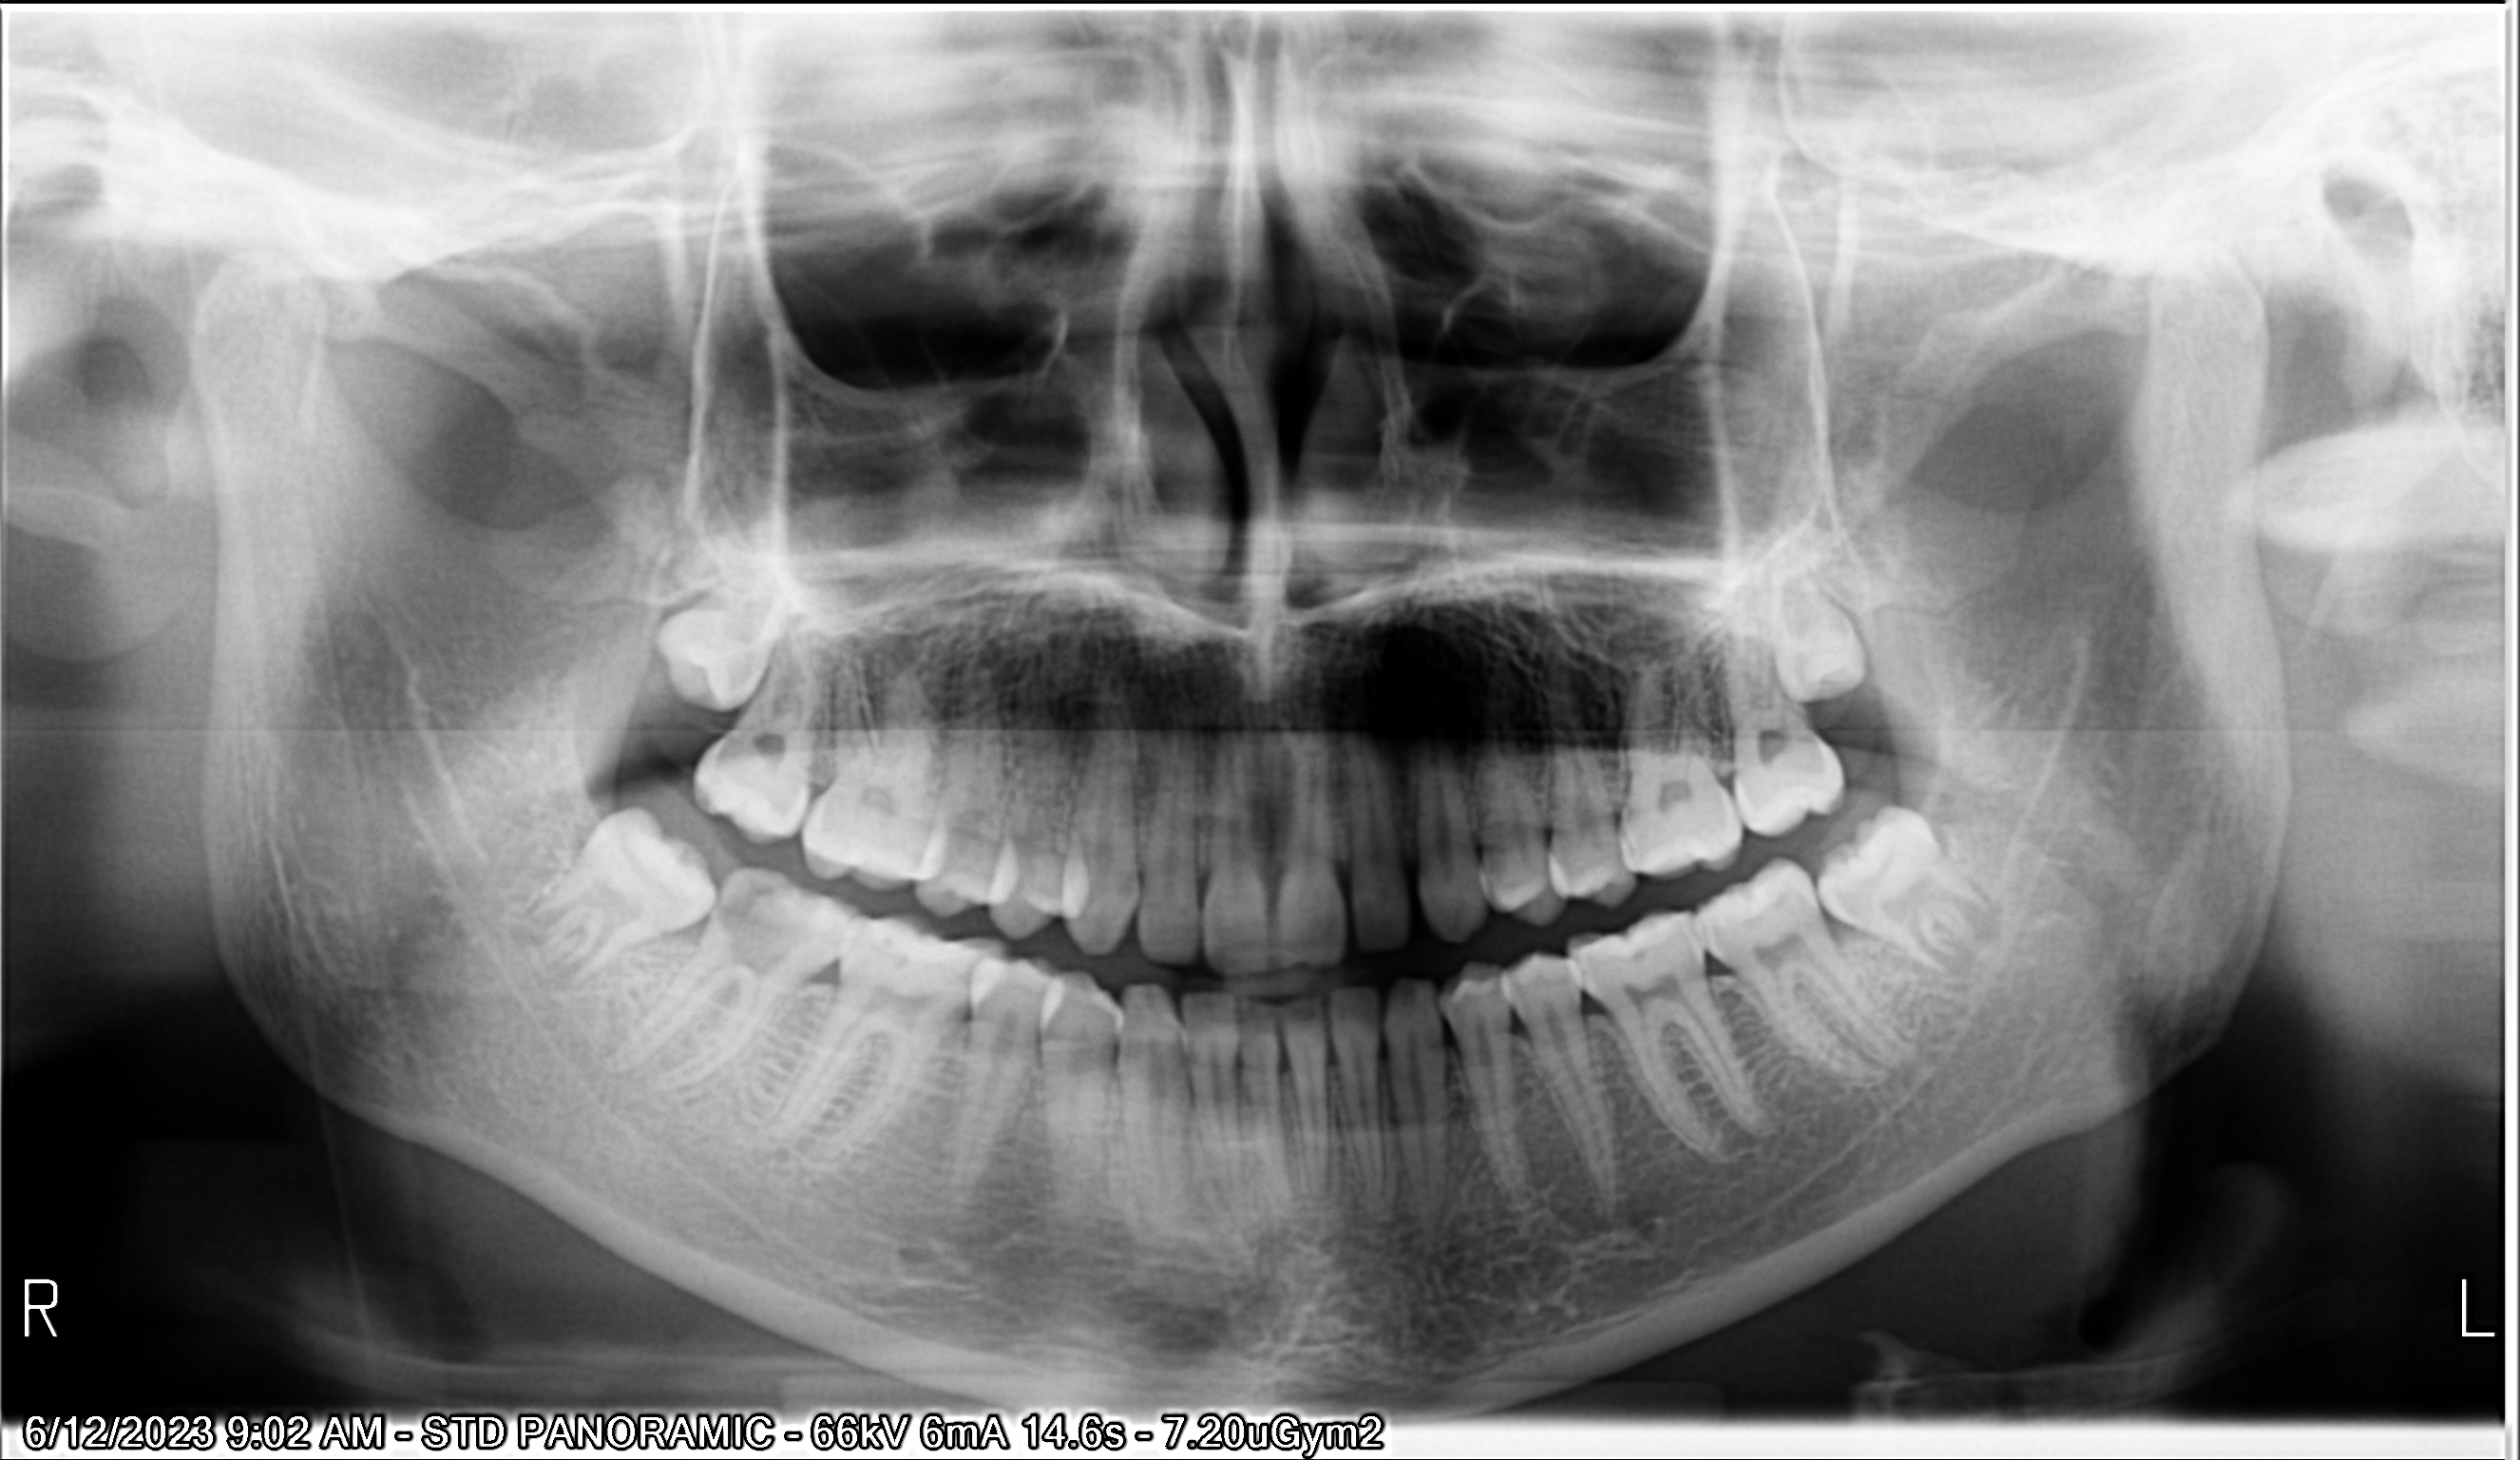CAR: (717, 864, 809, 977), (879, 933, 927, 979), (1857, 853, 1914, 888), (1742, 899, 1799, 926), (1619, 819, 1648, 864), (1617, 932, 1650, 961), (696, 780, 726, 810)
IMT: (651, 546, 771, 716), (1742, 558, 1865, 697)
